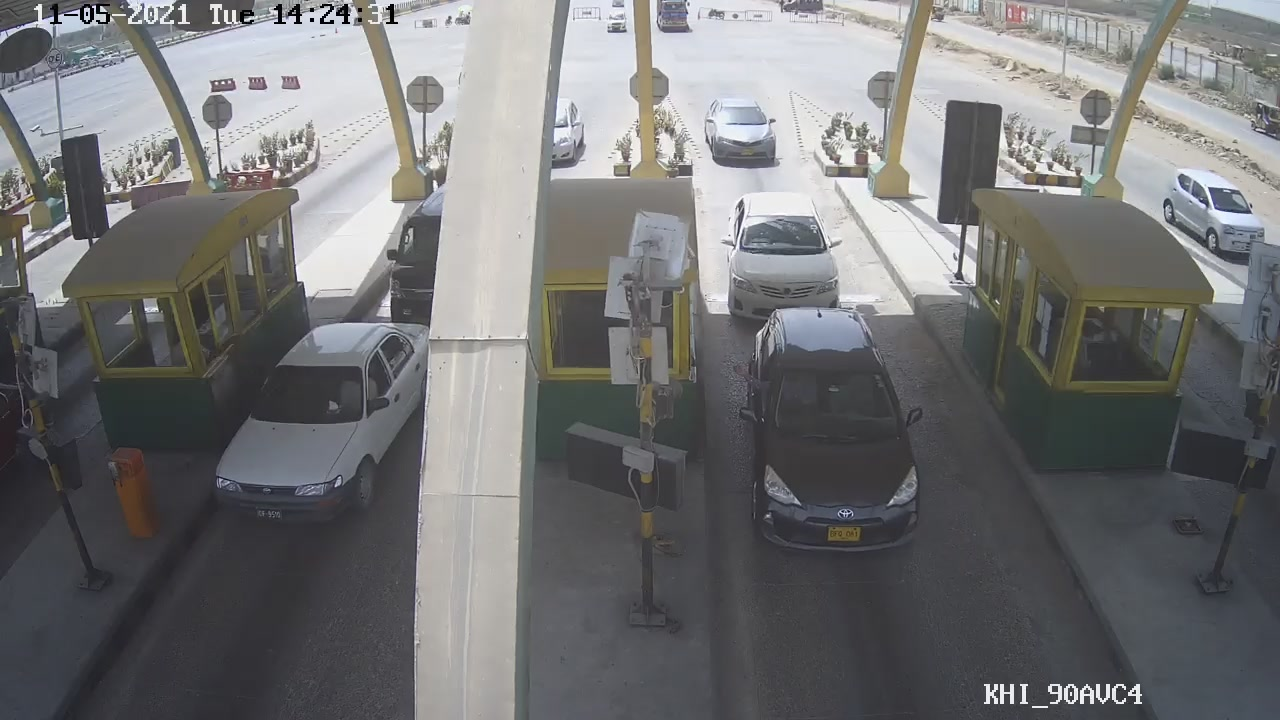F1: (733, 309, 933, 554)
